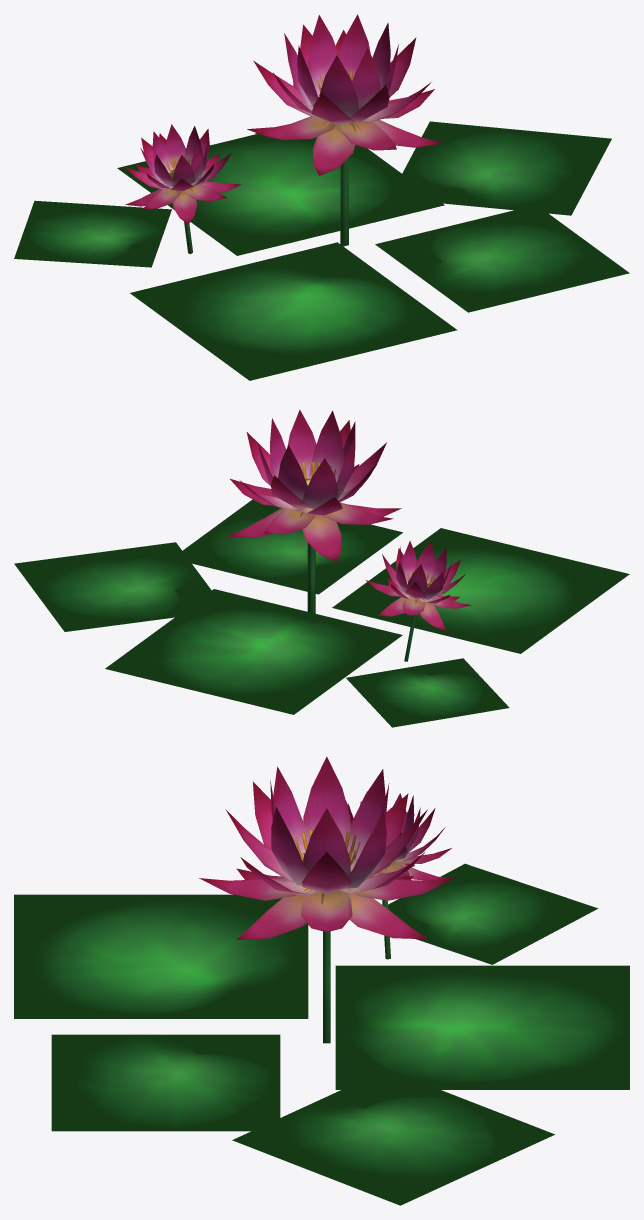
File: uploads_files_897205_Lotus+Model.fbx
3 renders of one model, top to bottom at view 1: azimuth 30°, elevation 25°; view 2: azimuth 150°, elevation 25°; view 3: azimuth 270°, elevation 25°, orthographic. The views are drawn at different scales.
Parts seen in each view (by area): view 1: Lotus; view 2: Lotus; view 3: Lotus.
Part boxes in pixels (x1,y1,x2,y2): Lotus: (14, 14, 629, 380); Lotus: (14, 409, 629, 727); Lotus: (14, 756, 629, 1205).
Size of the model in its own units: 22.31 by 7.98 by 16.98.
